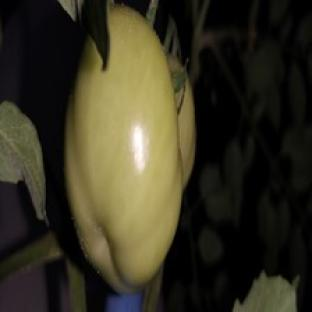Tomato: (66, 6, 182, 292), (176, 77, 196, 188)
